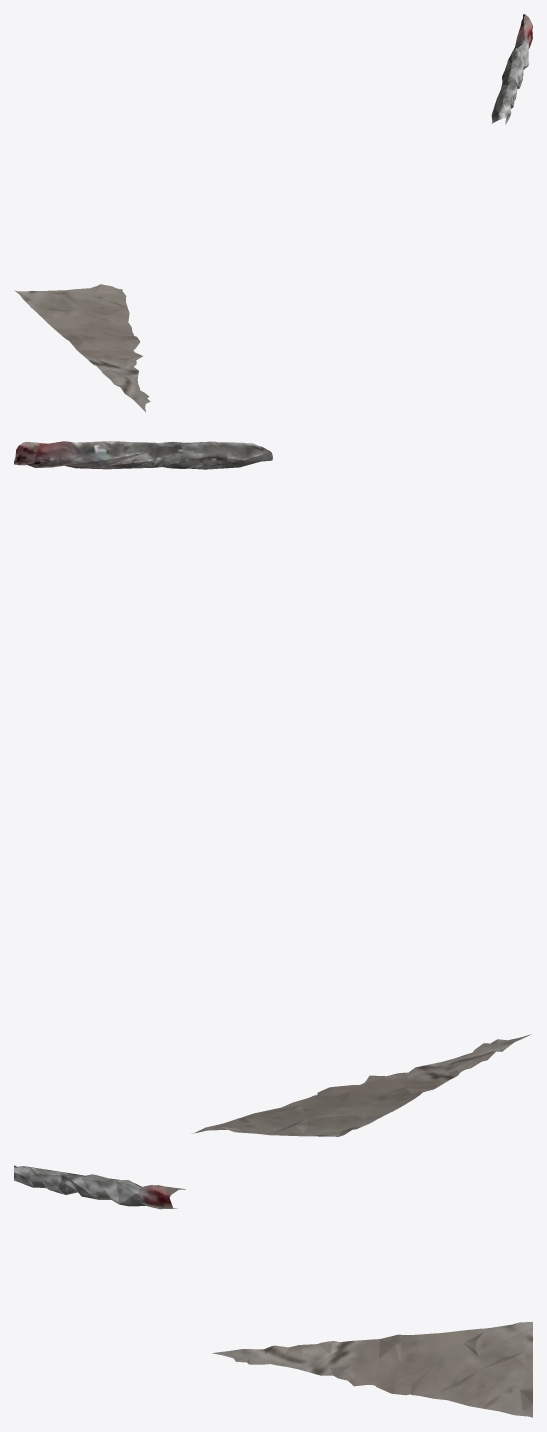
3 renders of one model, top to bottom at view 1: azimuth 30°, elevation 25°; view 2: azimuth 150°, elevation 25°; view 3: azimuth 270°, elevation 25°, orthographic. The views are drawn at different scales.
Bounding box in the file's own units: 0.8374 × 0.682 × 0.8374.
Materials: 1 (1 with a texture image).
